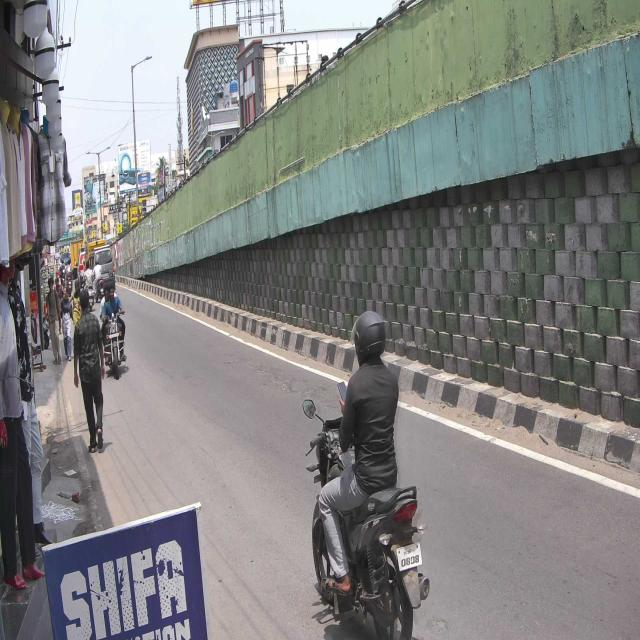single_rider: (304, 313, 432, 640)
